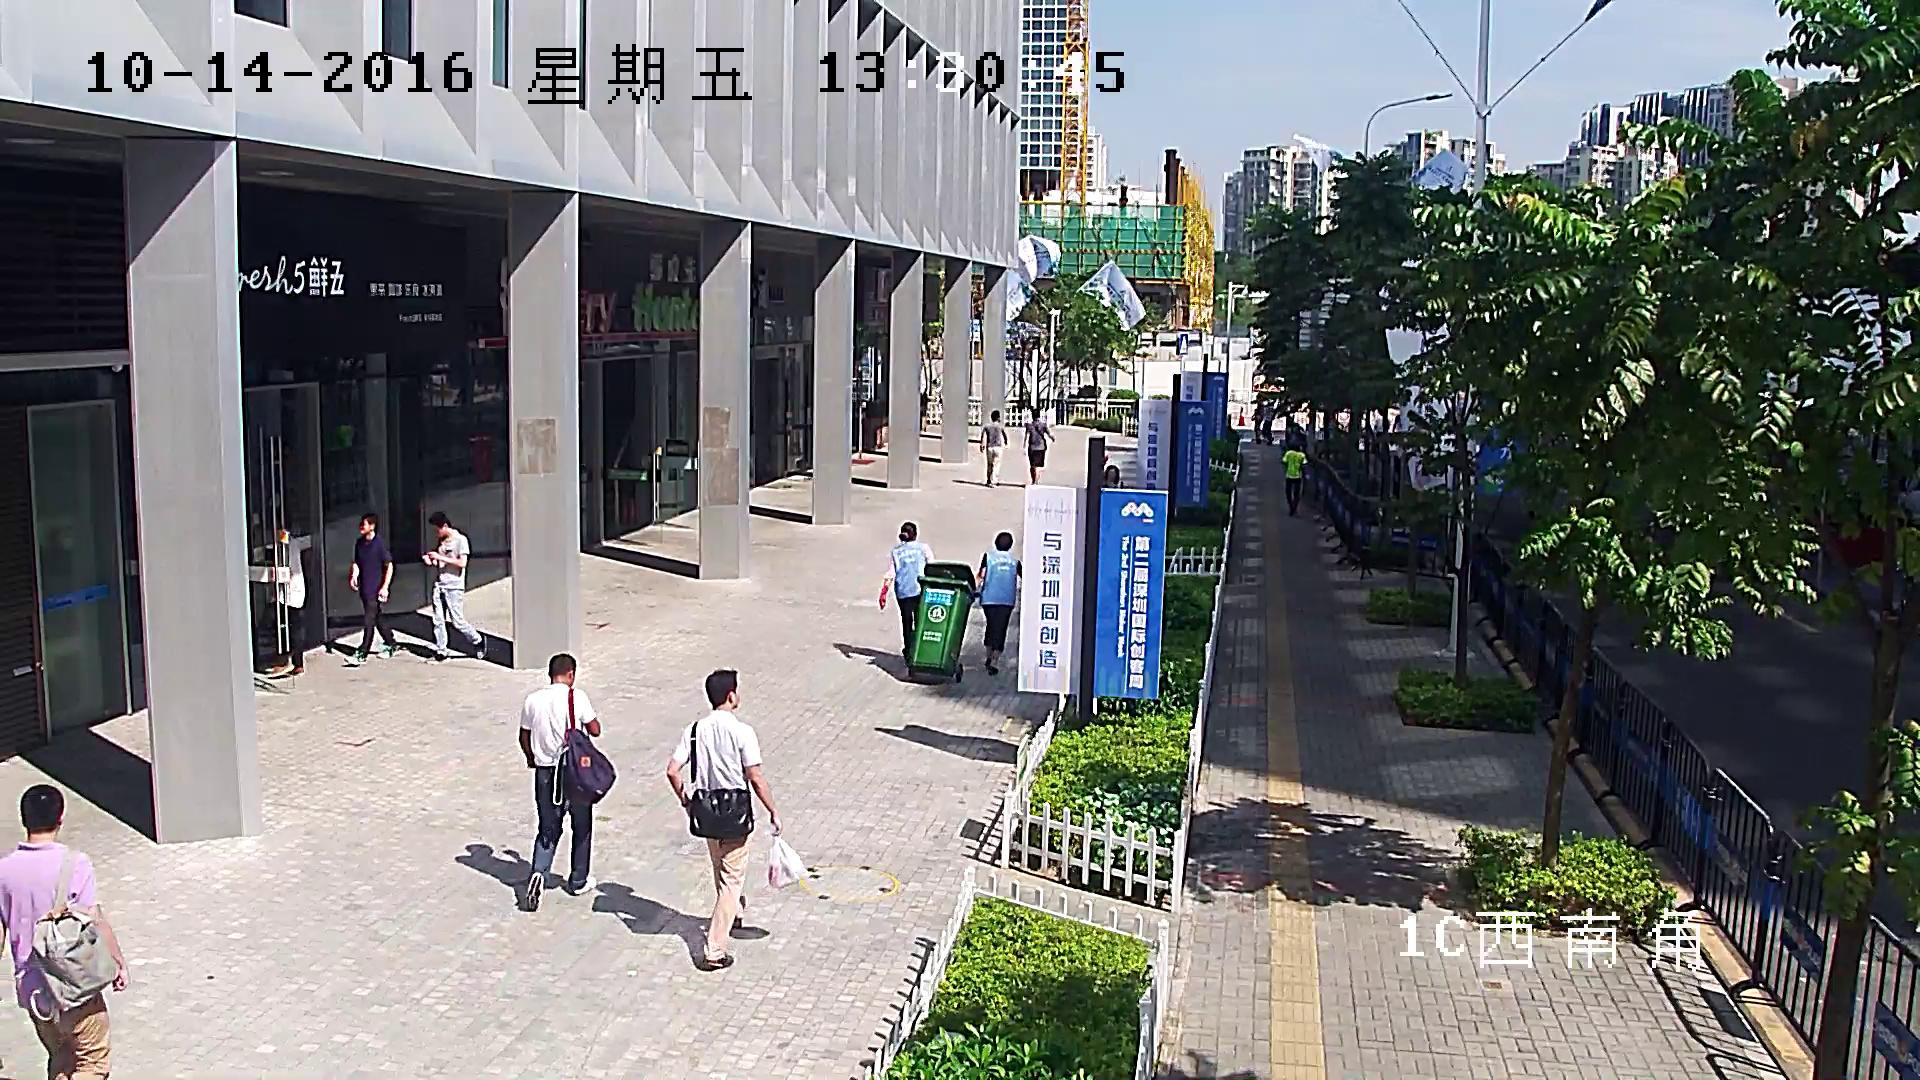person: (664, 669, 809, 970), (0, 783, 127, 1080), (665, 670, 782, 969), (517, 653, 616, 911), (905, 532, 1021, 681), (879, 521, 979, 681), (420, 512, 486, 666), (343, 512, 399, 666), (879, 522, 935, 659), (978, 532, 1021, 675), (266, 535, 305, 676), (1022, 408, 1055, 485), (980, 410, 1007, 487), (1280, 445, 1307, 517), (1251, 401, 1263, 443), (1261, 408, 1274, 444)
